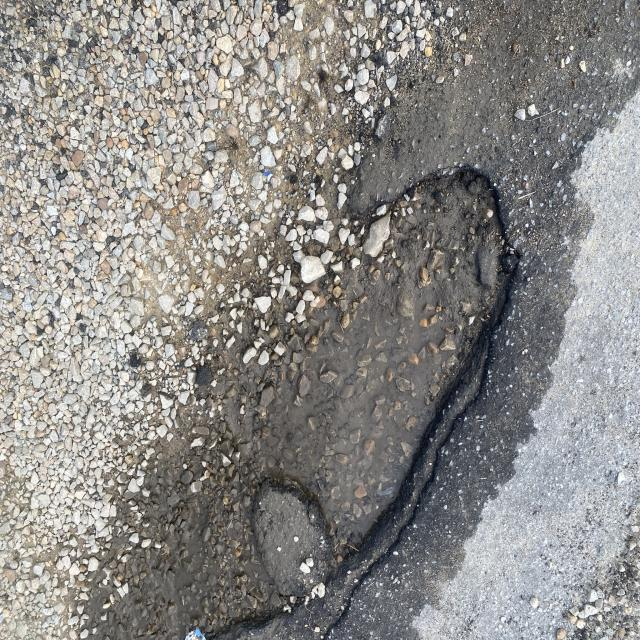pothole: (121, 143, 531, 640)
